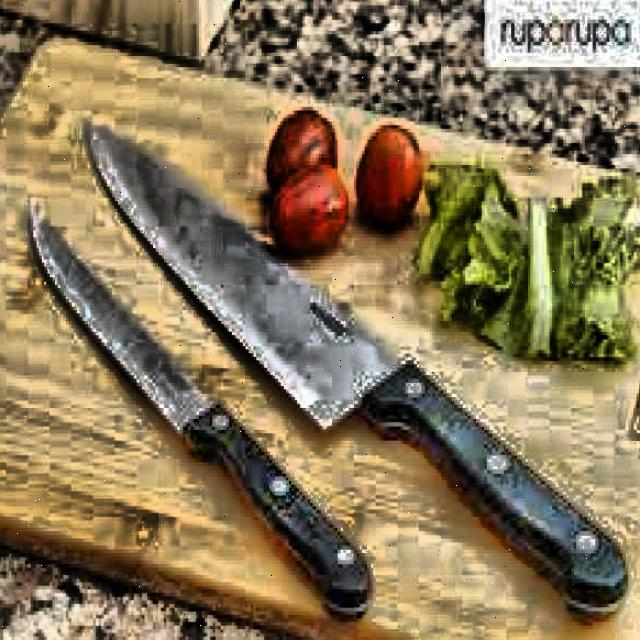knife: (89, 130, 630, 625), (26, 208, 373, 616)
